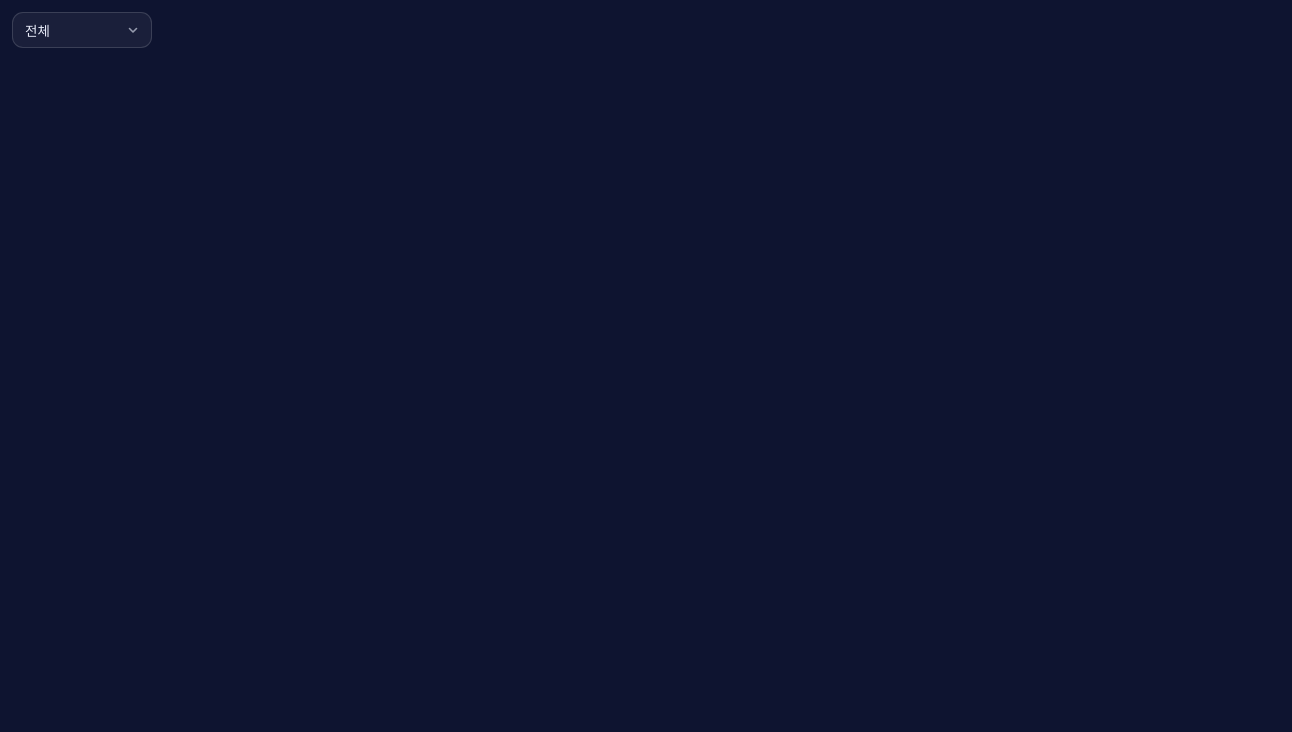
Select › 바깥을 누르면 닫힌다
Step 1. Click the button with aria-label "처리 상태 필터" → (82,30), box [12,12,152,48]
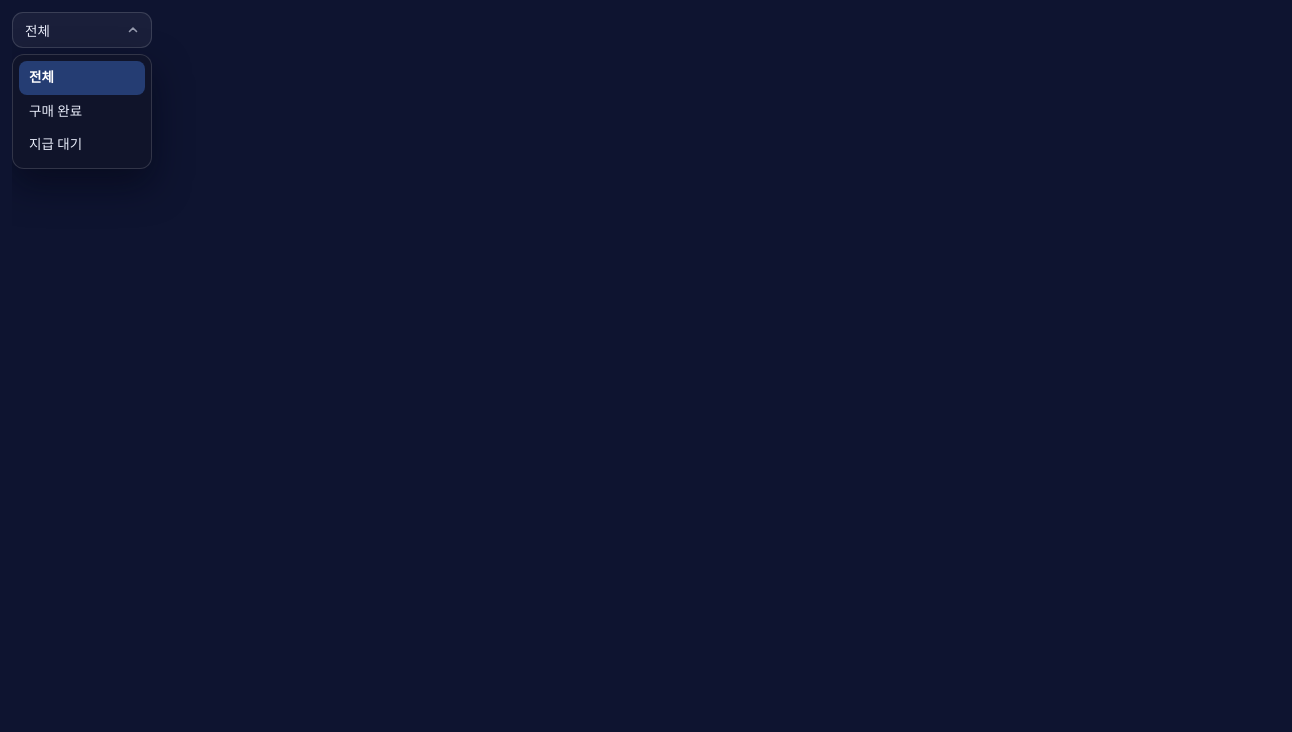
Step 2. Press the mouse on the element showing "전체 전체 구매 완료 지급 대기" → (652,372), box [12,12,1291,731]
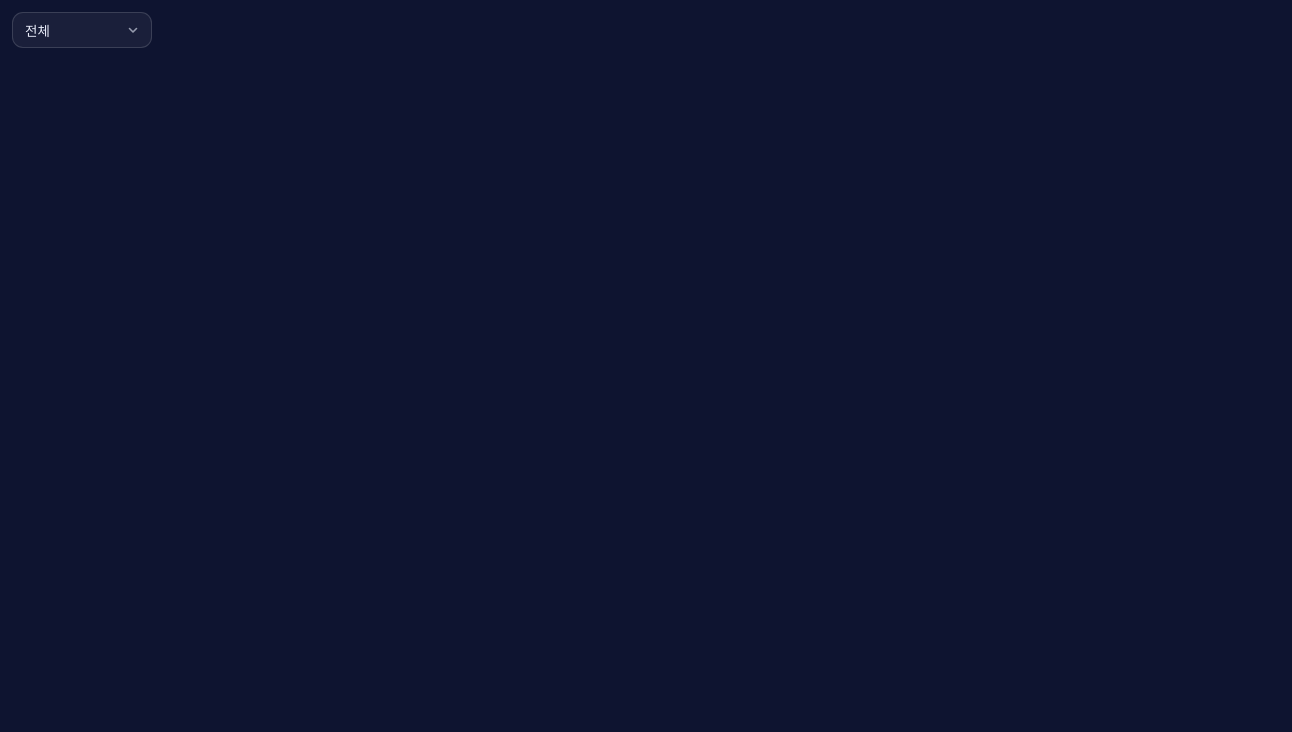
Expected: the list is gone
